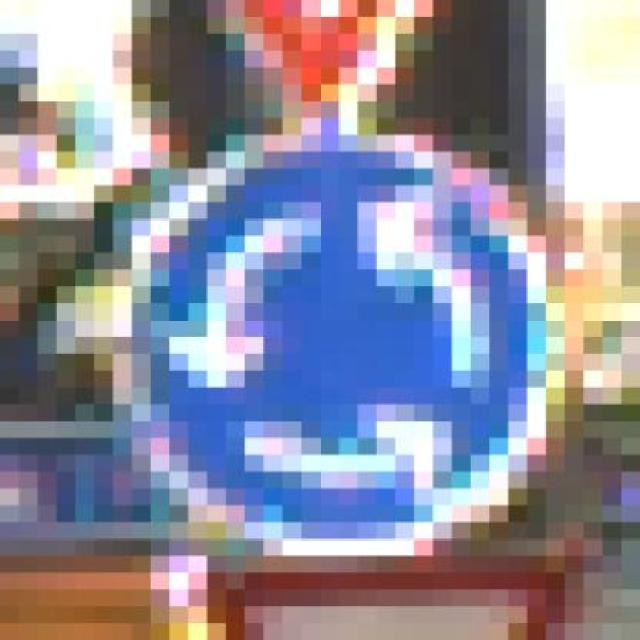Round-About: (37, 135, 621, 573)
